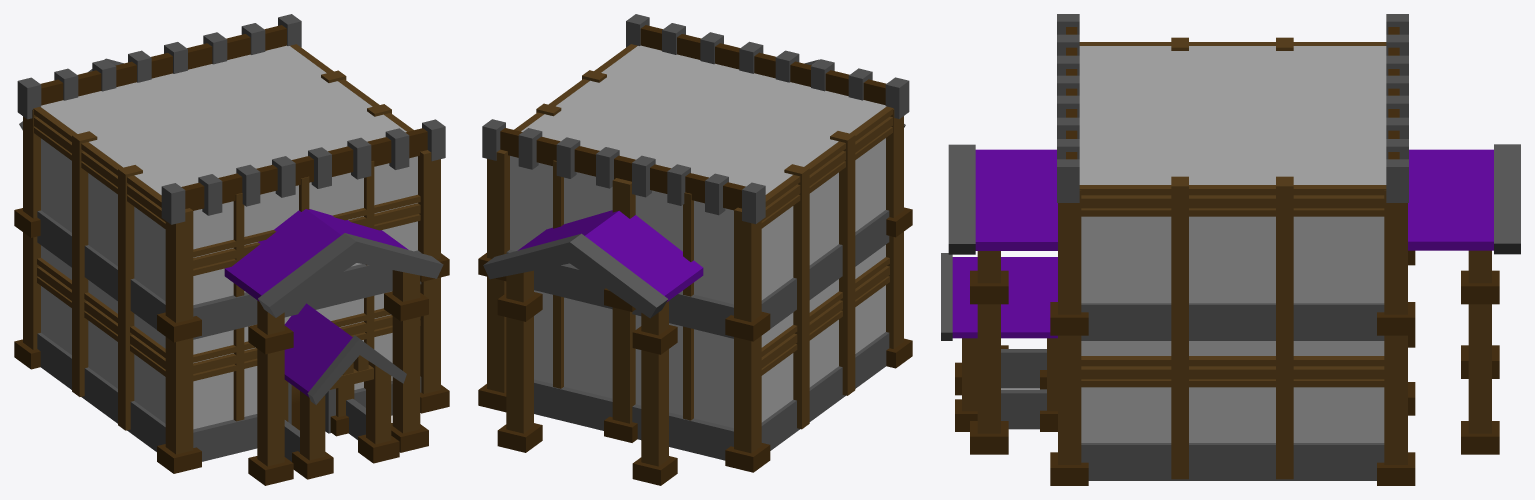
The model's file is Mesh_Royal_Flat_Hos.fbx.
3 renders of one model, left to right at view 1: azimuth 30°, elevation 25°; view 2: azimuth 150°, elevation 25°; view 3: azimuth 270°, elevation 25°, orthographic. The views are drawn at different scales.
Parts seen in each view (by area): view 1: Royal_Flat_Hos; view 2: Royal_Flat_Hos; view 3: Royal_Flat_Hos.
Boxes of the visible parts, x1,y1,x2,y2 form: Royal_Flat_Hos: (14, 14, 449, 485); Royal_Flat_Hos: (478, 14, 912, 485); Royal_Flat_Hos: (941, 14, 1520, 485).
Size of the model in its own units: 832 by 803 by 1325.
